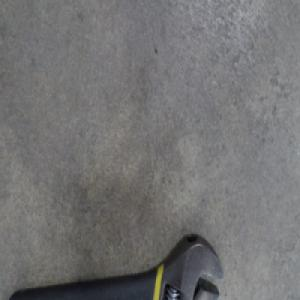AdjustableWrench: (12, 230, 227, 299)
